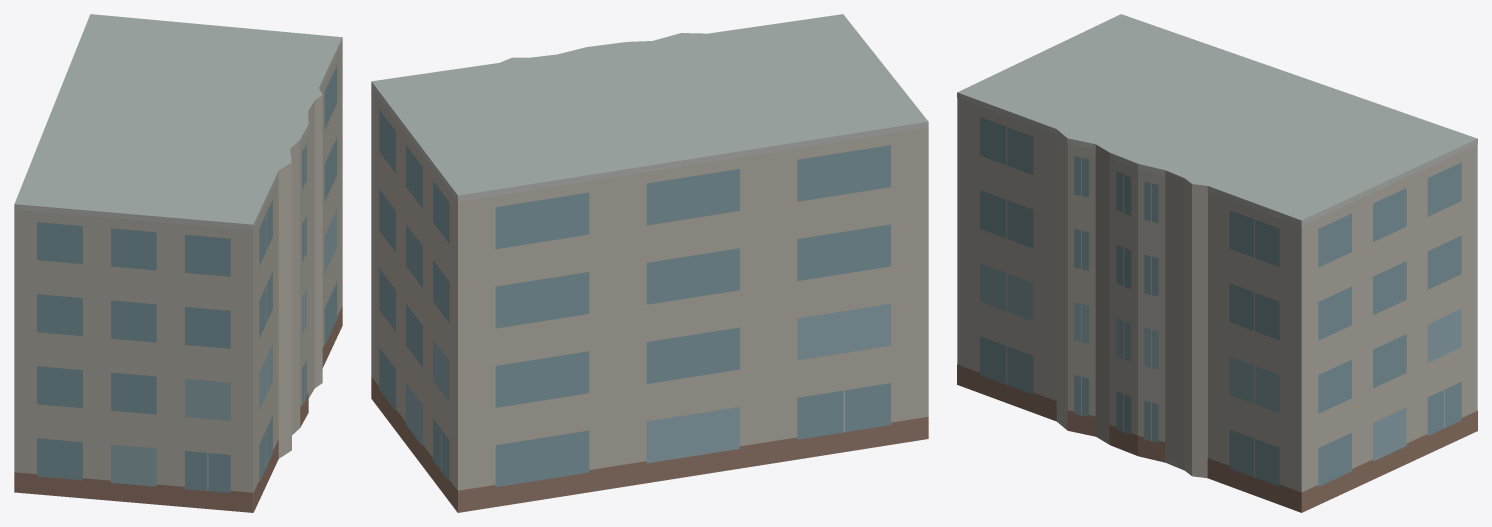
File: survey-upis-32610248.glb
3 views of the same model, side by side, from view 1: azimuth 30°, elevation 25°; view 2: azimuth 150°, elevation 25°; view 3: azimuth 270°, elevation 25° (orthographic). The views are drawn at different scales.
Parts seen in each view (by area): view 1: survey-upis-32610248.tmp; view 2: survey-upis-32610248.tmp; view 3: survey-upis-32610248.tmp.
Part boxes in pixels (x1,y1,x2,y2): survey-upis-32610248.tmp: [14, 14, 342, 512]; survey-upis-32610248.tmp: [371, 14, 928, 512]; survey-upis-32610248.tmp: [957, 14, 1477, 512].
Bounding box in the file's own units: 19.25 × 12.7 × 20.5.
